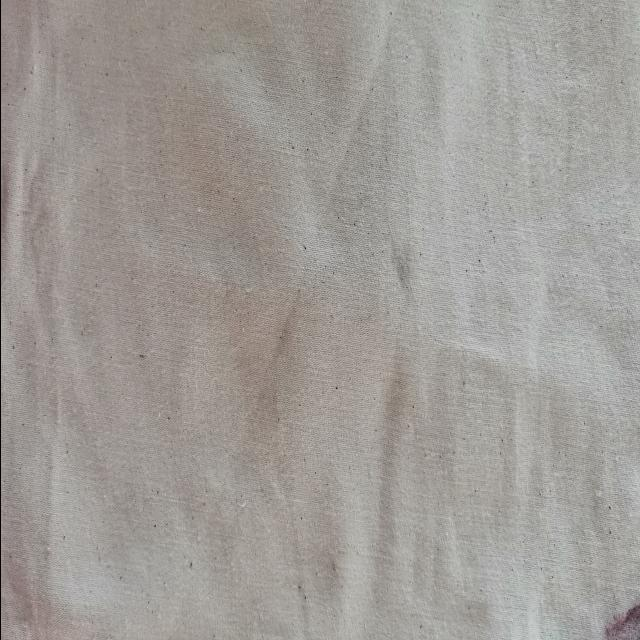taaaches: (376, 228, 418, 308), (588, 602, 640, 640)
